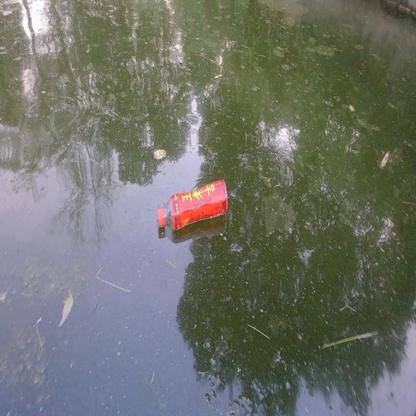plastic bottle: (156, 178, 227, 230)
